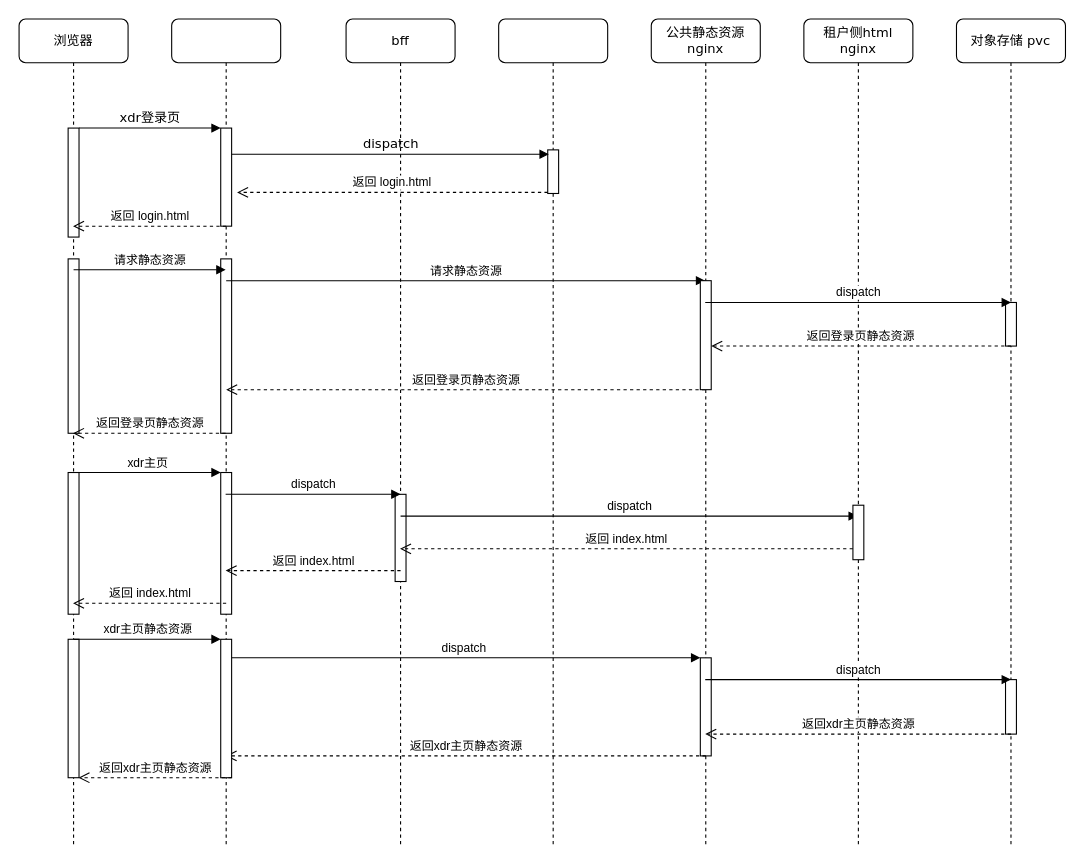
The diagram is 1085 pixels wide and 867 high, and some of its shapes have lost their labels. Here are the shapes that lost their labels. From the top down, the box of each, then its label:
(171, 18, 281, 847): apisix
(498, 18, 608, 847): 公共html nginx
